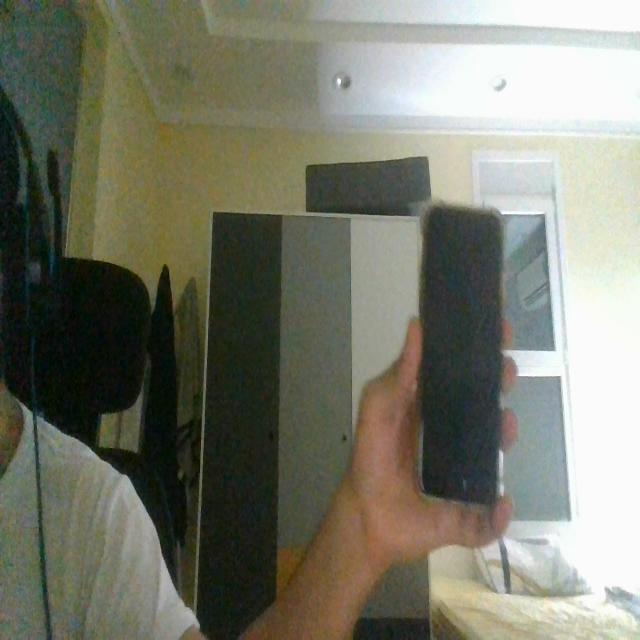Phone: (408, 199, 511, 510)
